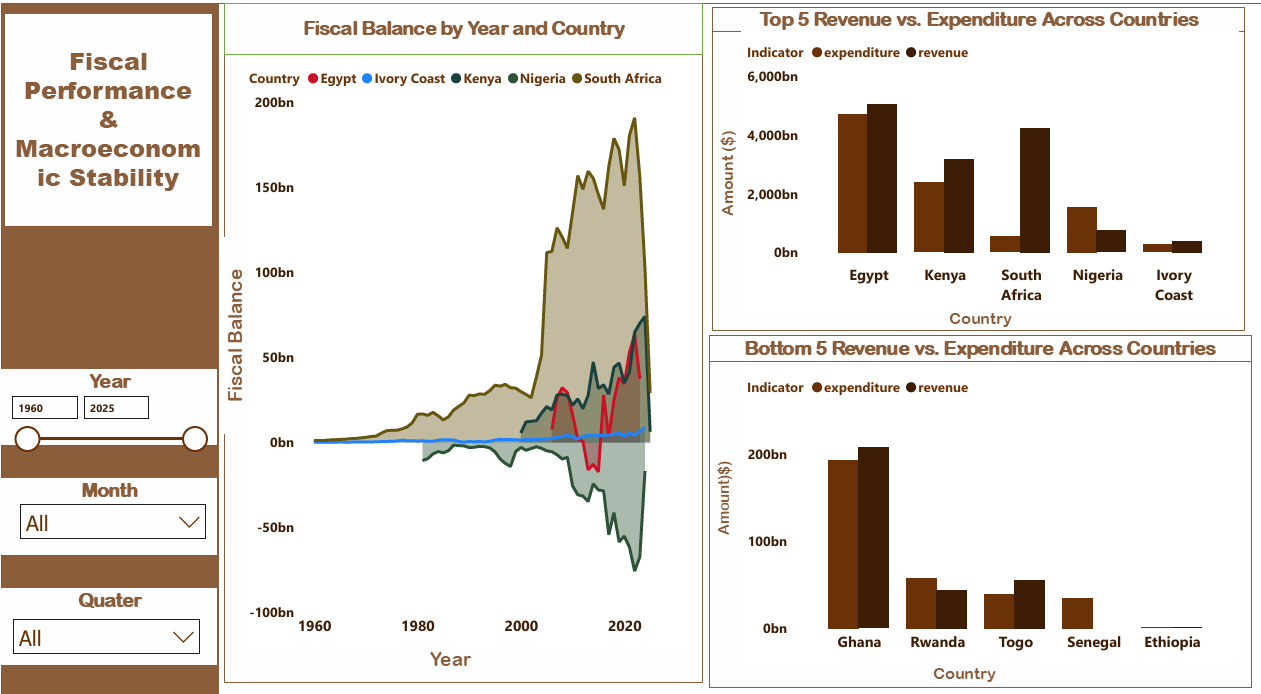

Layout of this report page (visuals, bound fields, positions):
{"tool":"powerbi","page":{"name":"Page 2","canvas":[1280,720],"ordinal":1},"visuals":[{"type":"areaChart","fields":{"Category":["Calendar.Year"],"Y":["kpi_1.Fiscal Balance"],"Series":["Dim_Country.Country"]},"box":[252.1,61.8,453.8,588.8],"z":0},{"type":"clusteredColumnChart","title":"TOp 5 Revenue vs. Expenditure Across Countries","fields":{"Category":["Dim_Country.Country"],"Series":["Dim_Indicator.Indicator_Category"],"Y":["Sum(fact_economic_data_cleaned.Amount_USD)"]},"box":[749.8,35.8,497.7,279.8],"z":1000},{"type":"clusteredColumnChart","title":"Bottom 5 Revenue vs. Expenditure Across Countries","fields":{"Category":["Dim_Country.Country"],"Series":["Dim_Indicator.Indicator_Category"],"Y":["Sum(fact_economic_data_cleaned.Amount_USD)"]},"box":[749.8,370.9,497.7,296],"z":2000},{"type":"slicer","fields":{"Values":["Calendar.Year"]},"box":[6.5,390.4,218,71.6],"z":3000},{"type":"slicer","fields":{"Values":["Calendar.Month"]},"box":[17.9,497.7,206.6,53.7],"z":4000},{"type":"slicer","fields":{"Values":["Calendar.Quarter"]},"box":[11.4,613.2,206.6,53.7],"z":5000}]}

Visuals, with their boxes in screenshot pixels (x1, y1, x2, y2), scaled from the page's 1280x720 canvas onto the 1261x694 screenshot:
areaChart - Calendar.Year x kpi_1.Fiscal Balance: [248, 60, 695, 627]
"TOp 5 Revenue vs. Expenditure Across Countries" clusteredColumnChart: [739, 35, 1229, 304]
"Bottom 5 Revenue vs. Expenditure Across Countries" clusteredColumnChart: [739, 358, 1229, 643]
slicer - Calendar.Year: [6, 376, 221, 445]
slicer - Calendar.Month: [18, 480, 221, 531]
slicer - Calendar.Quarter: [11, 591, 215, 643]
